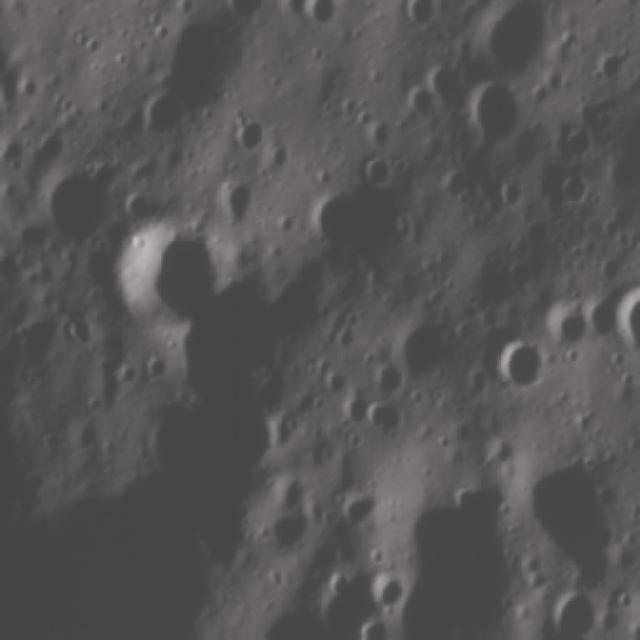crater: (504, 431, 618, 569), (99, 207, 219, 338), (33, 158, 121, 253), (464, 2, 562, 86), (250, 477, 322, 568), (484, 330, 553, 404), (466, 80, 536, 152), (303, 182, 369, 256), (396, 314, 458, 388), (592, 281, 640, 367), (546, 587, 604, 640), (362, 393, 408, 450), (540, 302, 586, 358), (138, 92, 185, 143), (212, 181, 260, 230), (339, 488, 383, 537), (368, 568, 410, 617), (558, 120, 599, 166), (402, 80, 441, 128), (398, 3, 448, 39), (300, 1, 342, 42), (558, 169, 593, 216), (222, 123, 262, 160), (497, 173, 529, 218), (595, 49, 627, 88), (363, 154, 395, 192), (263, 142, 292, 181), (356, 615, 398, 640), (498, 635, 539, 640)
